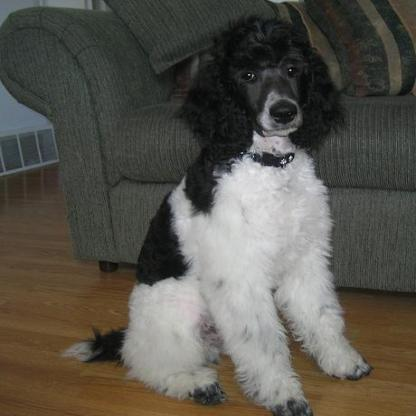standard_poodle: (60, 13, 372, 413)
